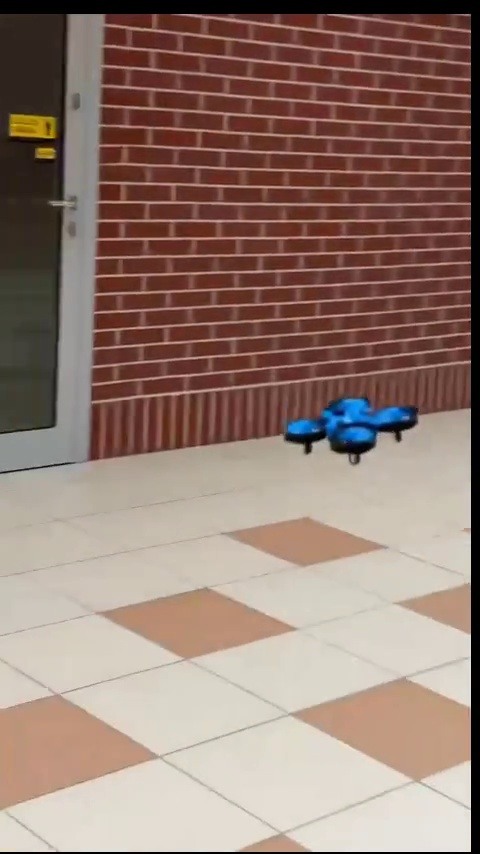drone: (281, 394, 419, 464)
